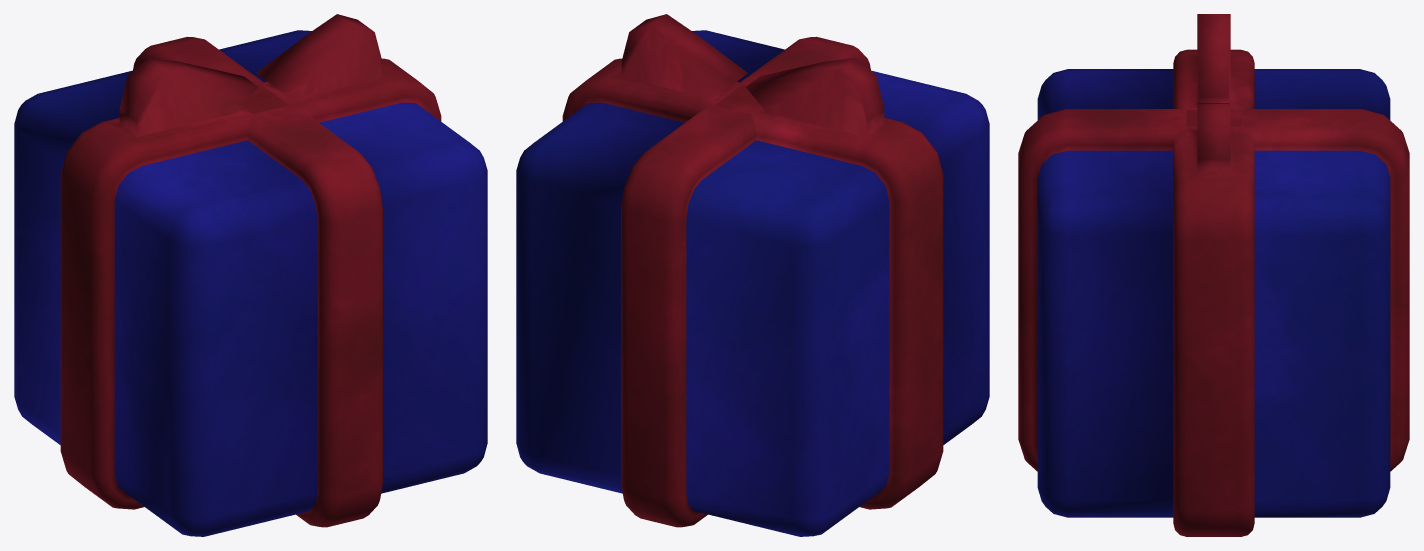
File: Presente_P_Azul.fbx
3 renders of one model, left to right at view 1: azimuth 30°, elevation 25°; view 2: azimuth 150°, elevation 25°; view 3: azimuth 270°, elevation 25°, orthographic. The views are drawn at different scales.
Visible parts, largest first — view 1: Presente_P_Azul; view 2: Presente_P_Azul; view 3: Presente_P_Azul.
Part boxes in pixels (left/top/right/bottom): Presente_P_Azul: left=14, top=14, right=487, bottom=536; Presente_P_Azul: left=516, top=14, right=989, bottom=536; Presente_P_Azul: left=1018, top=14, right=1409, bottom=536.
Bounding box in the file's own units: 28.83 × 33.49 × 28.83.
1 material, 1 textured.
